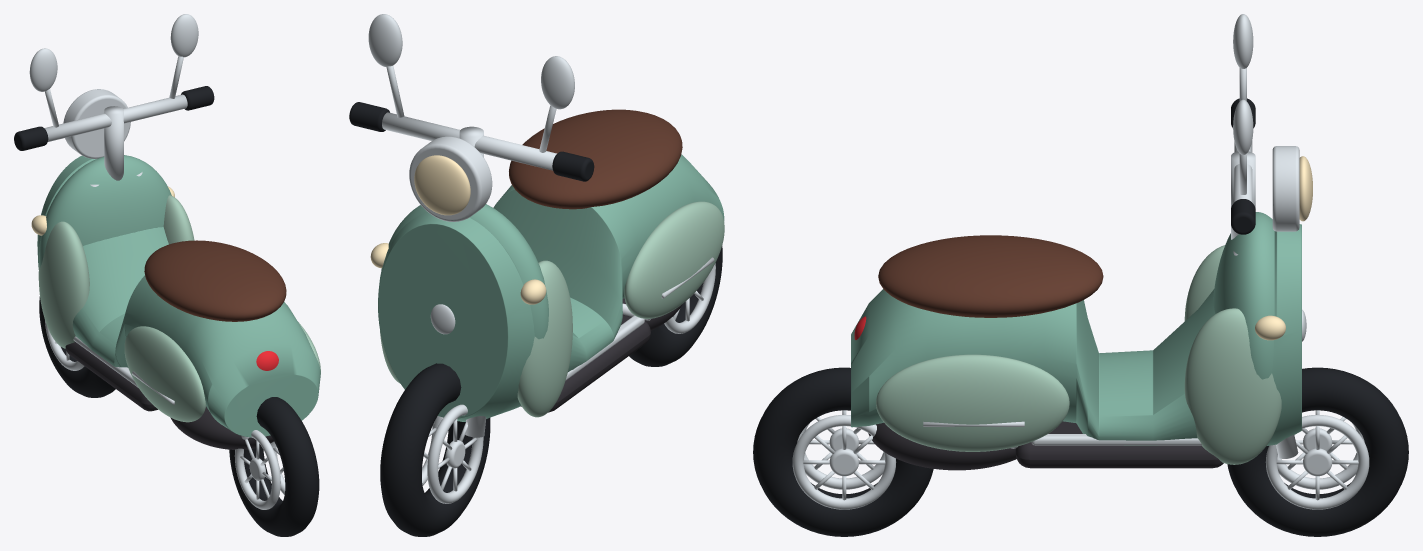
The model's file is scooter_retro.glb.
The picture shows the model from 3 angles, left to right: view 1: azimuth 30°, elevation 25°; view 2: azimuth 150°, elevation 25°; view 3: azimuth 270°, elevation 25°; orthographic projection. The views are drawn at different scales.
Visible parts, largest first — view 1: Coque principale, Selle cuir, Tablier avant enveloppant, Pneu.001, Panneau lateral moteur, Joue laterale tablier, Contour phare, Guidon, Carter moteur, Pneu, Plancher central, Jante chrome.002 (+9 smaller); view 2: Coque principale, Selle cuir, Pneu, Panneau lateral moteur, Joue laterale tablier, Tablier avant enveloppant, Contour phare, Guidon, Verre phare, Pneu.001, Jante chrome, Plancher central (+8 smaller); view 3: Coque principale, Selle cuir, Panneau lateral moteur.001, Pneu, Pneu.001, Joue laterale tablier.001, Tablier avant enveloppant, Plancher central, Carter moteur, Jante chrome.001, Jante chrome.003, Contour phare (+8 smaller).
Boxes of the visible parts, <box> form: Coque principale: <box>37,155,320,437</box>; Selle cuir: <box>144,240,286,321</box>; Tablier avant enveloppant: <box>39,155,171,267</box>; Pneu.001: <box>229,397,319,536</box>; Panneau lateral moteur: <box>124,326,205,422</box>; Joue laterale tablier: <box>38,221,89,348</box>; Contour phare: <box>63,89,130,158</box>; Guidon: <box>44,94,187,141</box>; Carter moteur: <box>170,406,273,449</box>; Pneu: <box>39,296,115,397</box>; Plancher central: <box>65,342,157,411</box>; Jante chrome.002: <box>234,430,280,509</box>; Coque principale: <box>378,154,724,421</box>; Selle cuir: <box>509,109,682,209</box>; Pneu: <box>380,363,490,536</box>; Panneau lateral moteur: <box>624,201,724,318</box>; Joue laterale tablier: <box>517,260,572,417</box>; Tablier avant enveloppant: <box>381,204,548,339</box>; Contour phare: <box>409,136,492,221</box>; Guidon: <box>382,112,556,170</box>; Verre phare: <box>414,155,470,215</box>; Pneu.001: <box>629,246,722,366</box>; Jante chrome: <box>427,404,483,503</box>; Plancher central: <box>520,314,650,412</box>; Coque principale: <box>851,224,1301,445</box>; Selle cuir: <box>878,235,1103,317</box>; Panneau lateral moteur.001: <box>876,354,1069,451</box>; Pneu: <box>1227,367,1408,536</box>; Pneu.001: <box>753,367,933,536</box>; Joue laterale tablier.001: <box>1184,308,1281,464</box>; Tablier avant enveloppant: <box>1213,212,1274,379</box>; Plancher central: <box>1015,421,1223,468</box>; Carter moteur: <box>868,423,1016,470</box>; Jante chrome.001: <box>1265,414,1369,509</box>; Jante chrome.003: <box>792,414,896,509</box>; Contour phare: <box>1272,146,1299,231</box>.
Bounding box in the file's own units: 1.23 × 2.34 × 2.91.
